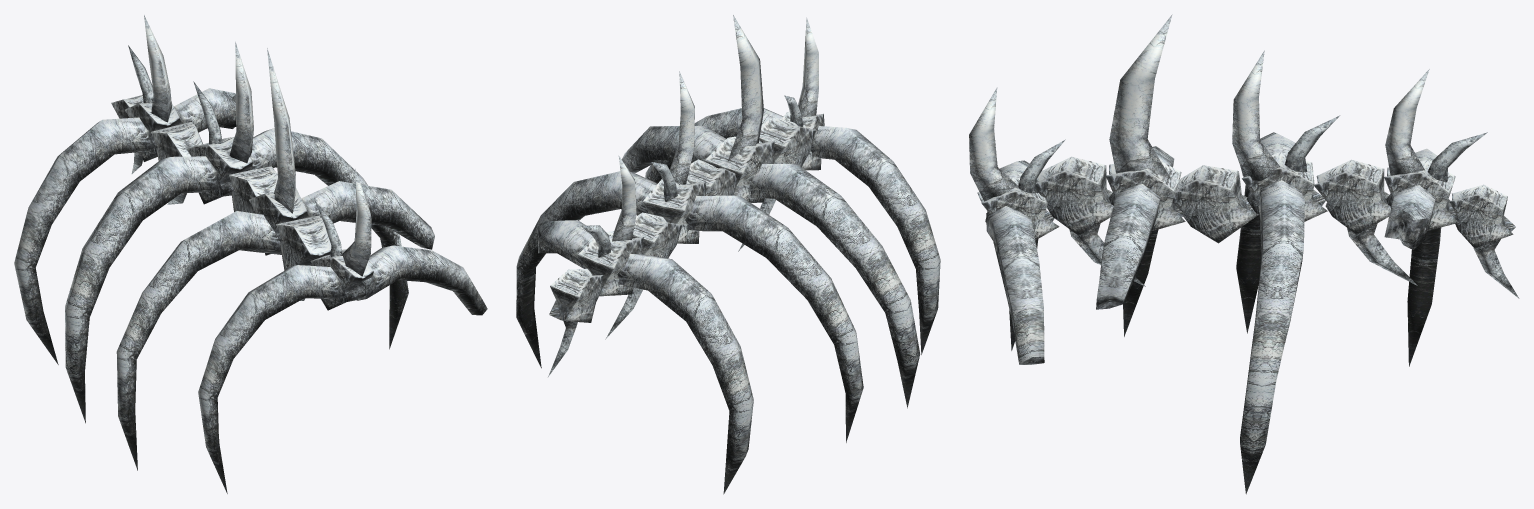
The model's file is ice_dragonbone_02.fbx.
The picture shows the model from 3 angles, left to right: view 1: azimuth 30°, elevation 25°; view 2: azimuth 150°, elevation 25°; view 3: azimuth 270°, elevation 25°; orthographic projection. The views are drawn at different scales.
Visible parts, largest first — view 1: ice_dragonbone_02; view 2: ice_dragonbone_02; view 3: ice_dragonbone_02.
Part boxes in pixels (bbox=[...]): ice_dragonbone_02: bbox=[14, 15, 487, 493]; ice_dragonbone_02: bbox=[516, 15, 940, 494]; ice_dragonbone_02: bbox=[969, 14, 1519, 494].
Size of the model in its own units: 14.68 by 15.36 by 18.86.
